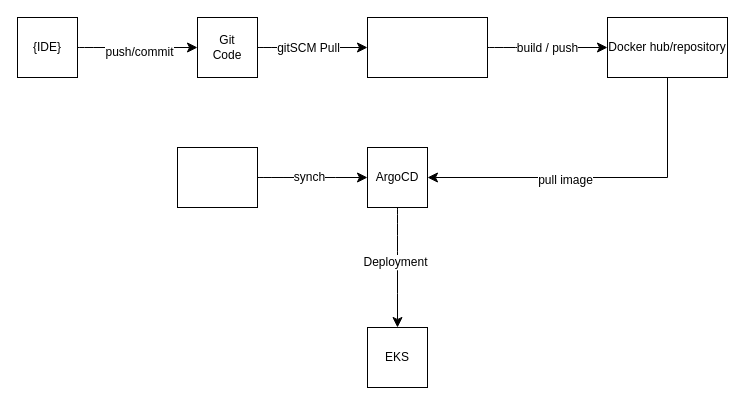
The diagram is 745 pixels wide and 405 high, and some of its shapes have lost their labels. Each missing label, with the box of its shape:
Git deployment script / yml: (176, 146, 258, 208)
Jenkins: (366, 16, 488, 78)
